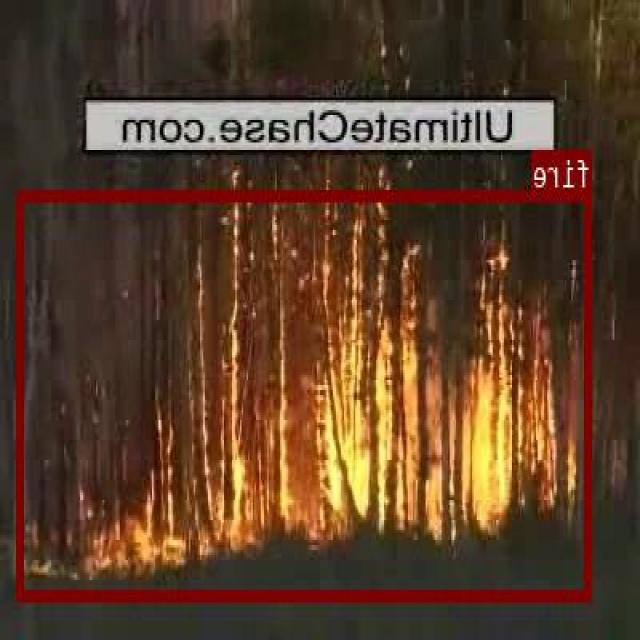fire: (19, 188, 593, 598)
